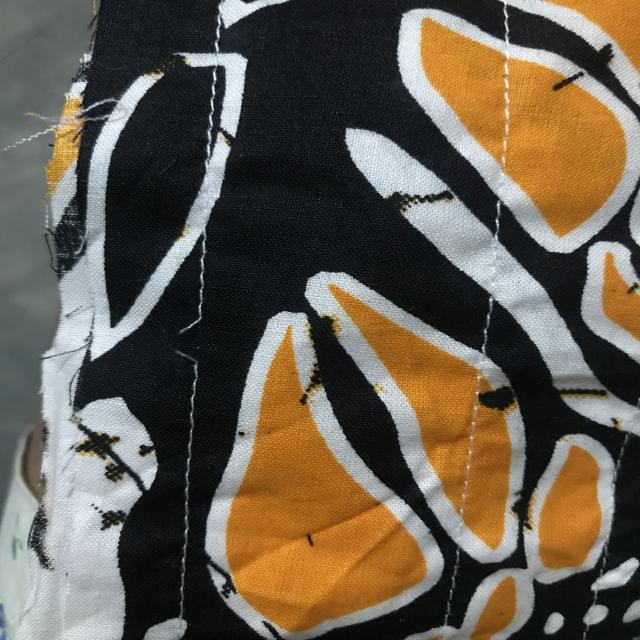broken: (161, 292, 226, 377)
good: (166, 400, 196, 578)
